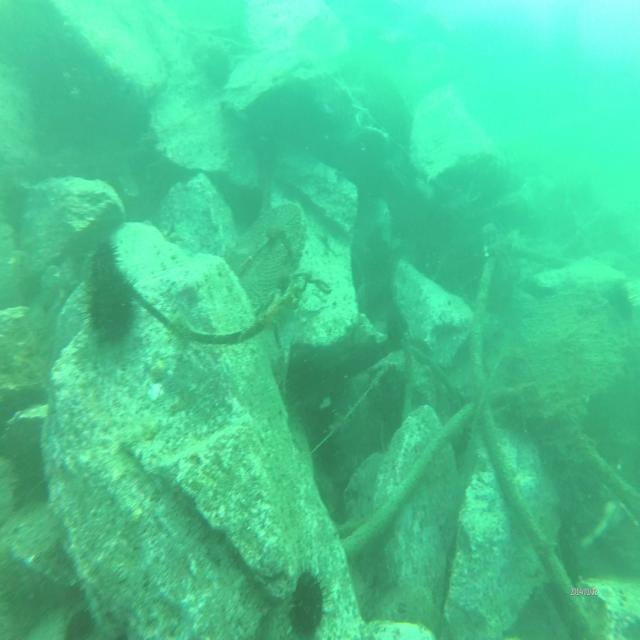echinus: (81, 270, 142, 348), (283, 567, 331, 640), (398, 576, 442, 637), (85, 237, 121, 288), (62, 599, 104, 640)
holothurian: (171, 311, 191, 346)
